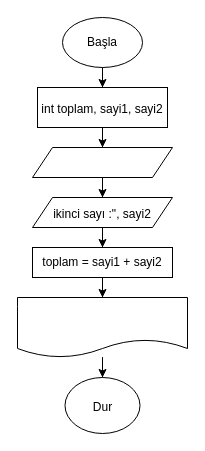
This 205x451 diagram has some shape labels left out. Here are the shapes that lost their labels. From the top down, the centre of each, then its label:
(x=102, y=162): "birinci sayı :", sayi1
(x=102, y=327): "iki sayının toplamı : ", toplam
